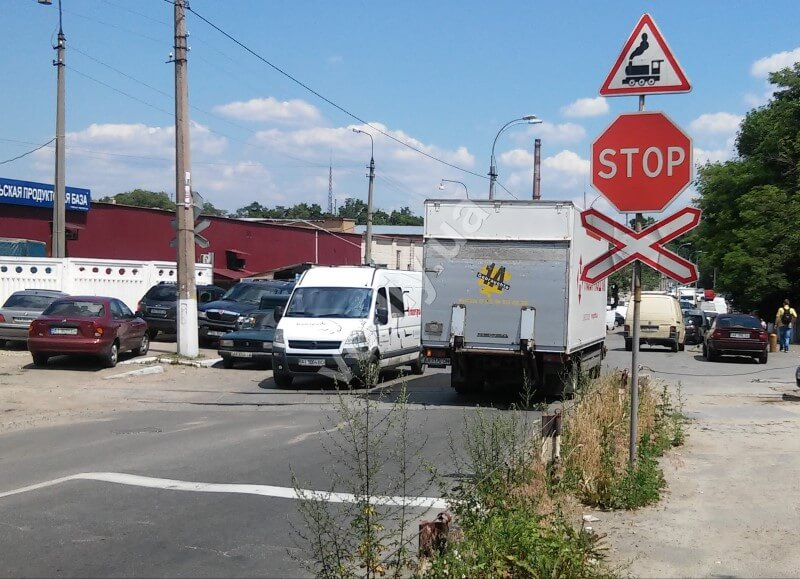1.2: (600, 23, 690, 93)
1.3.1: (565, 208, 700, 286)
